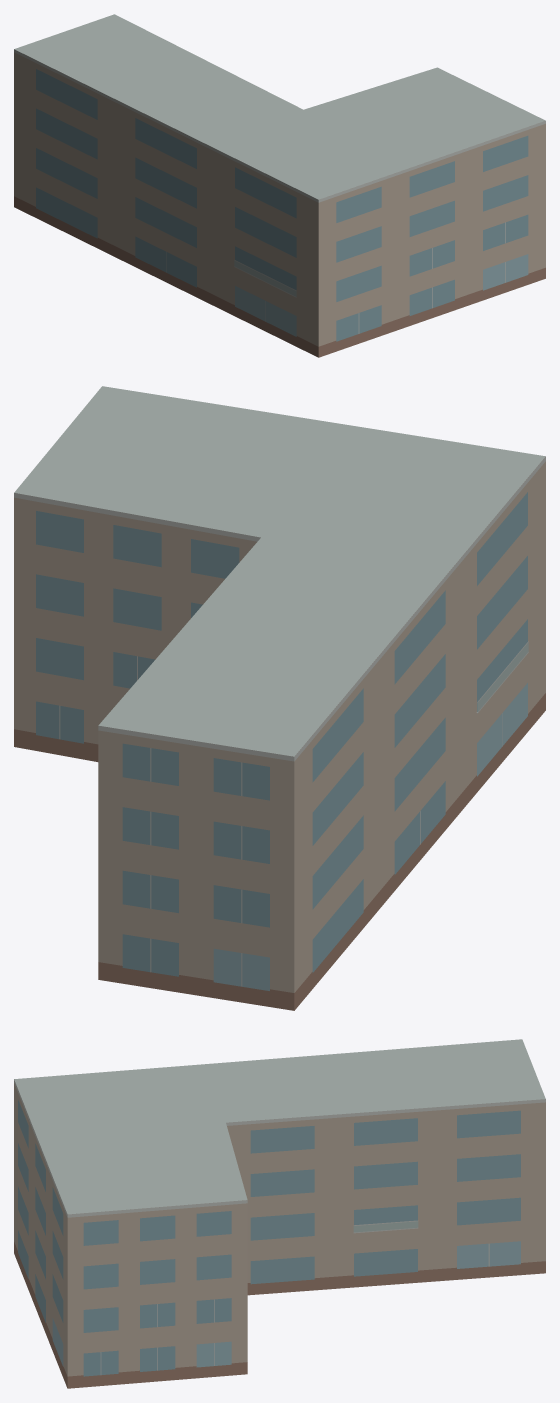
File: survey-upis-32574751.glb
3 views of the same model, one above another, from view 1: azimuth 30°, elevation 25°; view 2: azimuth 150°, elevation 25°; view 3: azimuth 270°, elevation 25° (orthographic). The views are drawn at different scales.
Visible parts, largest first — view 1: survey-upis-32574751.tmp; view 2: survey-upis-32574751.tmp; view 3: survey-upis-32574751.tmp.
Part boxes in pixels (<box>): survey-upis-32574751.tmp: <box>14,14,545,357</box>; survey-upis-32574751.tmp: <box>14,386,545,1010</box>; survey-upis-32574751.tmp: <box>14,1039,545,1388</box>.
Size of the model in its own units: 27.62 by 12.8 by 35.42.
